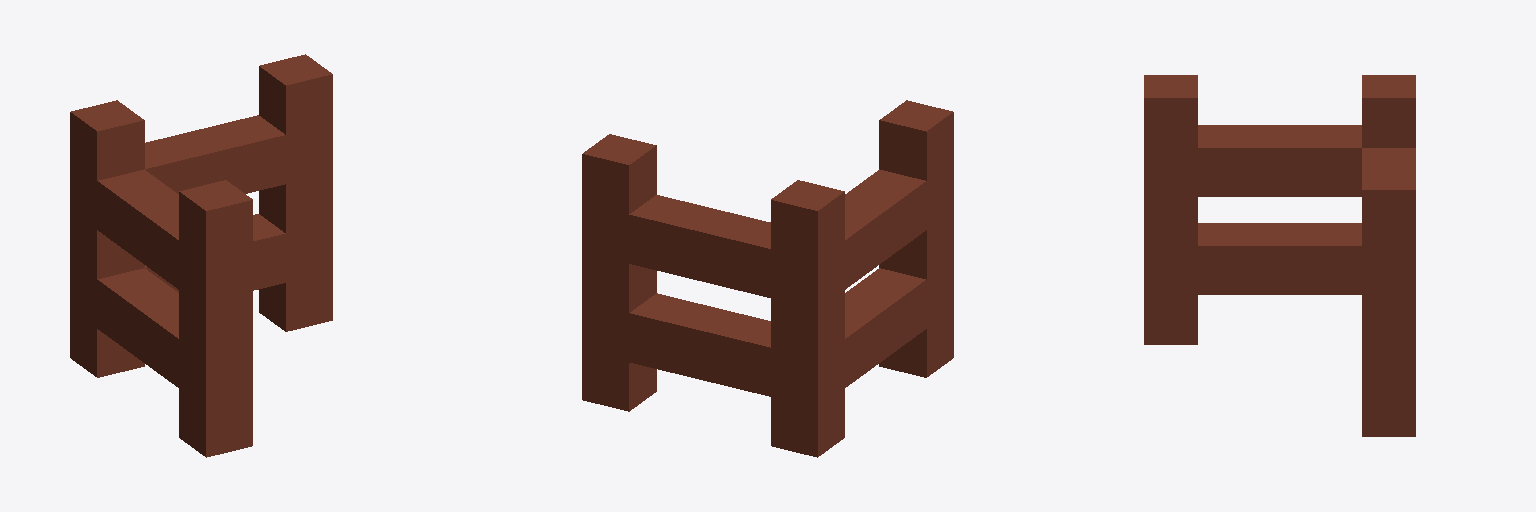
3 renders of one model, left to right at view 1: azimuth 30°, elevation 25°; view 2: azimuth 150°, elevation 25°; view 3: azimuth 270°, elevation 25°, orthographic.
Parts seen in each view (by area): view 1: Element #4, Element #1, Element #3, Element #6, Element #8, Element #9, Element #2, Element #7, Element #5; view 2: Element #1, Element #3, Element #2, Element #4, Element #6, Element #8, Element #9, Element #5, Element #7; view 3: Element #1, Element #4, Element #6, Element #8, Element #9, Element #3.
Part boxes in pixels (bbox=[...]): Element #4: bbox=[179, 180, 252, 457]; Element #1: bbox=[259, 54, 332, 331]; Element #3: bbox=[70, 115, 285, 229]; Element #6: bbox=[97, 268, 178, 387]; Element #8: bbox=[97, 169, 178, 289]; Element #9: bbox=[70, 100, 144, 180]; Element #2: bbox=[70, 214, 285, 327]; Element #7: bbox=[70, 211, 144, 279]; Element #5: bbox=[70, 309, 144, 377]; Element #1: bbox=[582, 134, 656, 411]; Element #3: bbox=[629, 195, 844, 309]; Element #2: bbox=[629, 293, 844, 407]; Element #4: bbox=[879, 100, 953, 377]; Element #6: bbox=[845, 268, 926, 387]; Element #8: bbox=[845, 169, 926, 289]; Element #9: bbox=[771, 180, 844, 259]; Element #5: bbox=[771, 389, 844, 457]; Element #7: bbox=[771, 290, 844, 358]; Element #1: bbox=[1362, 167, 1415, 436]; Element #4: bbox=[1144, 75, 1197, 344]; Element #6: bbox=[1198, 223, 1361, 294]; Element #8: bbox=[1198, 125, 1361, 196]; Element #9: bbox=[1362, 75, 1415, 147]; Element #3: bbox=[1362, 148, 1415, 166].
Size of the model in its own units: 0.8 by 0.8 by 0.8.
Materials: 1 (1 with a texture image).